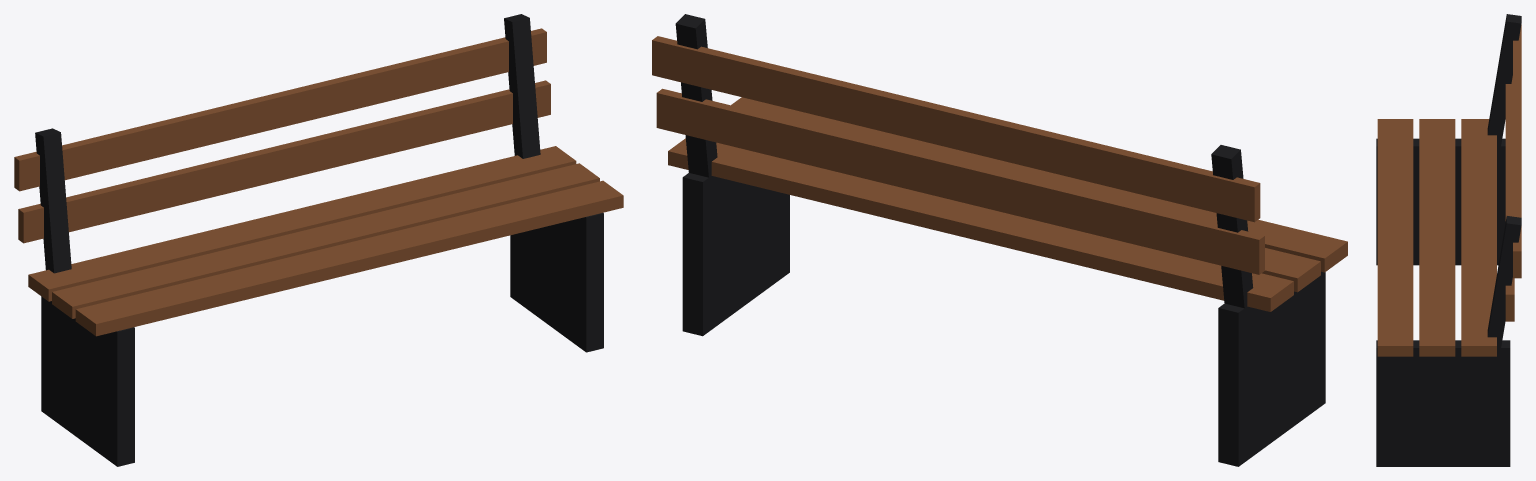
File: halt_bench.glb
The picture shows the model from 3 angles, left to right: view 1: azimuth 30°, elevation 25°; view 2: azimuth 150°, elevation 25°; view 3: azimuth 270°, elevation 25°; orthographic projection. The views are drawn at different scales.
Visible parts, largest first — view 1: Body; view 2: Body; view 3: Body.
Part boxes in pixels (left/top/right/bottom): Body: left=14, top=14, right=623, bottom=466; Body: left=652, top=14, right=1347, bottom=466; Body: left=1376, top=14, right=1521, bottom=466.
Bounding box in the file's own units: 1.8 × 0.9009 × 0.488.
